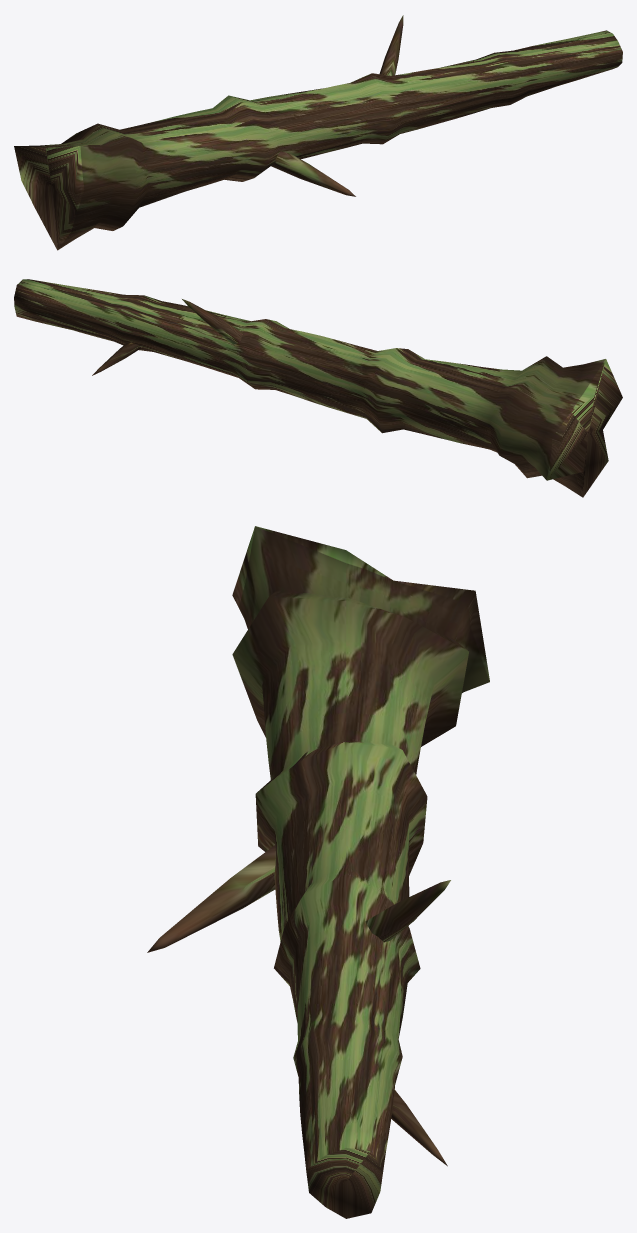
Rendered from fallen_branch.glb.
The picture shows the model from 3 angles, top to bottom: view 1: azimuth 30°, elevation 25°; view 2: azimuth 150°, elevation 25°; view 3: azimuth 270°, elevation 25°; orthographic projection. The views are drawn at different scales.
Visible parts, largest first — view 1: fallen_branch; view 2: fallen_branch; view 3: fallen_branch.
Boxes of the visible parts, bbox=[...] form: fallen_branch: bbox=[14, 15, 622, 250]; fallen_branch: bbox=[14, 279, 622, 497]; fallen_branch: bbox=[147, 526, 489, 1218].
Bounding box in the file's own units: 2.55 × 0.5424 × 0.669.
Materials: 1 (1 with a texture image).
